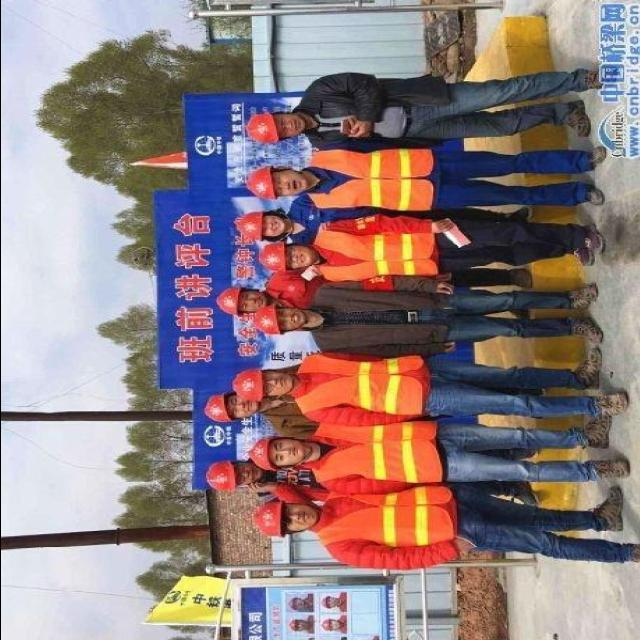helmet: (238, 110, 284, 154), (194, 456, 237, 500), (246, 500, 288, 544), (241, 299, 285, 338), (196, 392, 236, 434), (254, 237, 294, 279), (241, 160, 278, 202), (229, 207, 269, 241), (212, 282, 244, 324), (248, 429, 278, 473)
jacket: (314, 482, 442, 556), (303, 422, 445, 482), (302, 149, 435, 211), (292, 354, 424, 416), (316, 222, 441, 284)
